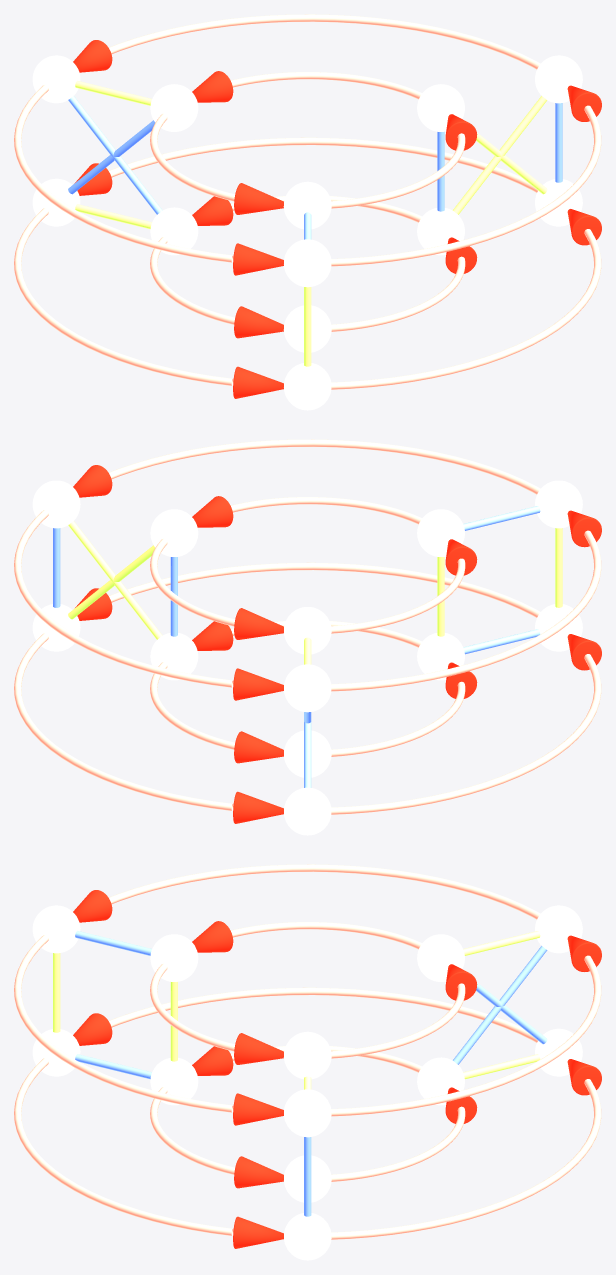
3 renders of one model, top to bottom at view 1: azimuth 30°, elevation 25°; view 2: azimuth 150°, elevation 25°; view 3: azimuth 270°, elevation 25°, orthographic.
Visible parts, largest first — view 1: splines.0000, splines.0009, splines.0011, splines.0002, splines.0010, splines.0001, Alpha.0008, Alpha.0011, Alpha.0005, Alpha.0004, Alpha.0009, Alpha.0000 (+33 smaller); view 2: splines.0002, splines.0011, splines.0010, splines.0001, splines.0000, splines.0009, Alpha.0004, Alpha.0007, Alpha.0000, Alpha.0001, Alpha.0005, Alpha.0008 (+32 smaller); view 3: splines.0001, splines.0010, splines.0000, splines.0009, splines.0002, splines.0011, Alpha.0000, Alpha.0001, Alpha.0003, Alpha.0009, Alpha.0008, Alpha.0004 (+33 smaller).
Part boxes in pixels (bbox=[...]): splines.0000: bbox=[109, 14, 540, 69]; splines.0009: bbox=[109, 137, 537, 192]; splines.0011: bbox=[331, 229, 601, 389]; splines.0002: bbox=[331, 105, 601, 266]; splines.0010: bbox=[14, 208, 233, 385]; splines.0001: bbox=[14, 85, 233, 262]; Alpha.0008: bbox=[284, 239, 331, 287]; Alpha.0011: bbox=[284, 363, 331, 410]; Alpha.0005: bbox=[150, 84, 198, 131]; Alpha.0004: bbox=[32, 55, 80, 103]; Alpha.0009: bbox=[283, 181, 331, 229]; Alpha.0000: bbox=[535, 55, 582, 103]; splines.0002: bbox=[109, 439, 540, 494]; splines.0011: bbox=[109, 562, 540, 617]; splines.0010: bbox=[331, 654, 601, 814]; splines.0001: bbox=[331, 530, 601, 691]; splines.0000: bbox=[14, 510, 233, 687]; splines.0009: bbox=[14, 633, 233, 810]; Alpha.0004: bbox=[284, 664, 331, 712]; Alpha.0007: bbox=[284, 787, 331, 835]; Alpha.0000: bbox=[32, 480, 80, 528]; Alpha.0001: bbox=[150, 509, 198, 556]; Alpha.0005: bbox=[284, 607, 331, 654]; Alpha.0008: bbox=[535, 480, 582, 528]; splines.0001: bbox=[109, 864, 540, 919]; splines.0010: bbox=[109, 987, 537, 1042]; splines.0000: bbox=[331, 955, 601, 1116]; splines.0009: bbox=[331, 1079, 601, 1239]; splines.0002: bbox=[14, 935, 233, 1112]; splines.0011: bbox=[14, 1058, 233, 1235]; Alpha.0000: bbox=[284, 1089, 331, 1137]; Alpha.0001: bbox=[283, 1031, 331, 1079]; Alpha.0003: bbox=[284, 1213, 331, 1260]; Alpha.0009: bbox=[150, 934, 198, 981]; Alpha.0008: bbox=[32, 905, 80, 953]; Alpha.0004: bbox=[535, 905, 582, 953].
Size of the model in its own units: 1.64 by 0.4973 by 1.59.
